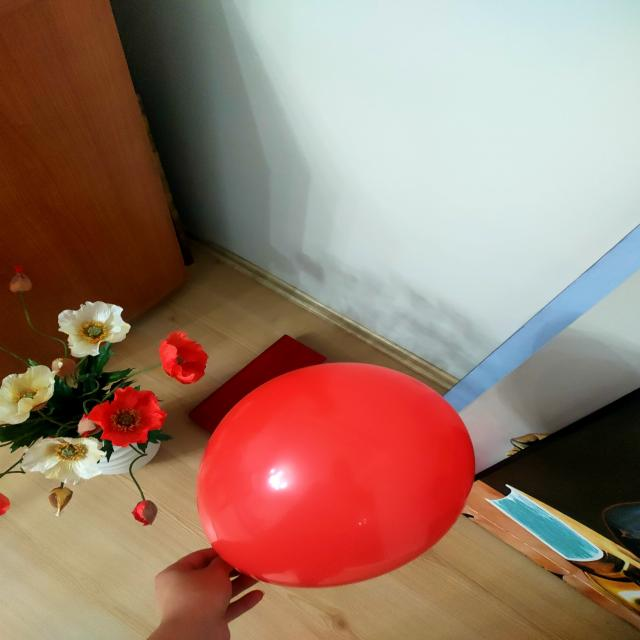red: (200, 362, 475, 588)
